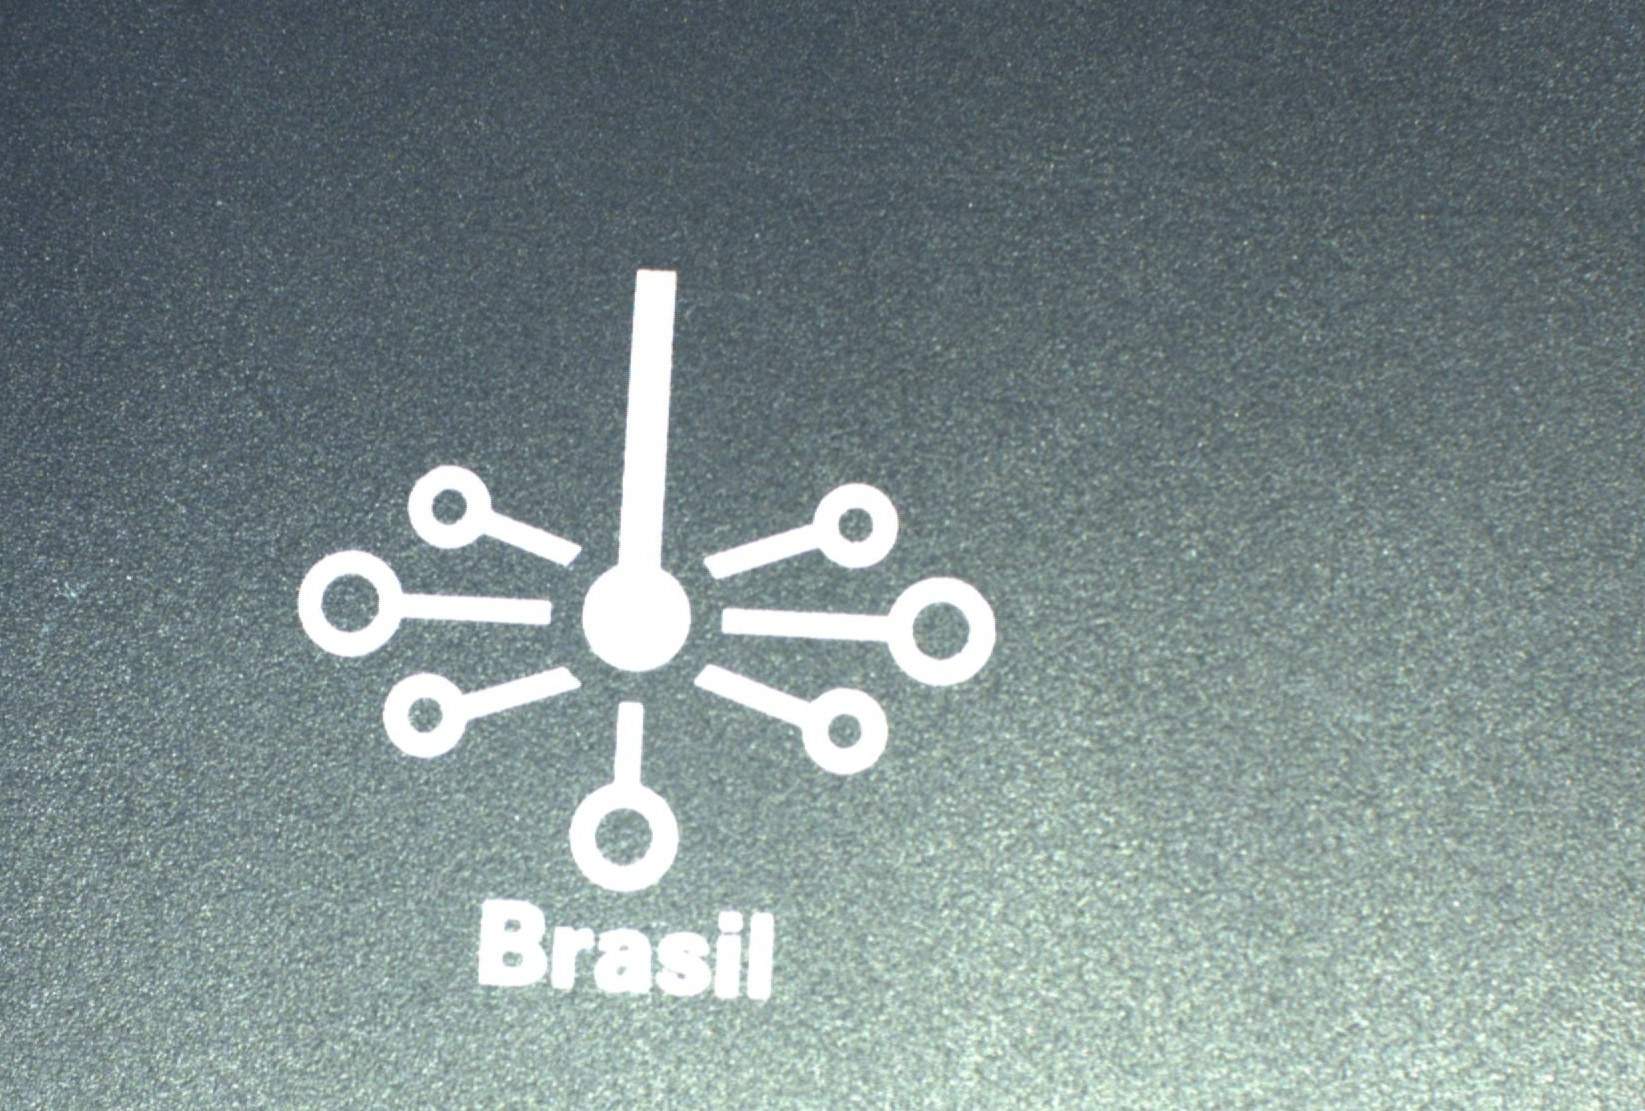BO_Brsail: (270, 250, 1009, 1022)
